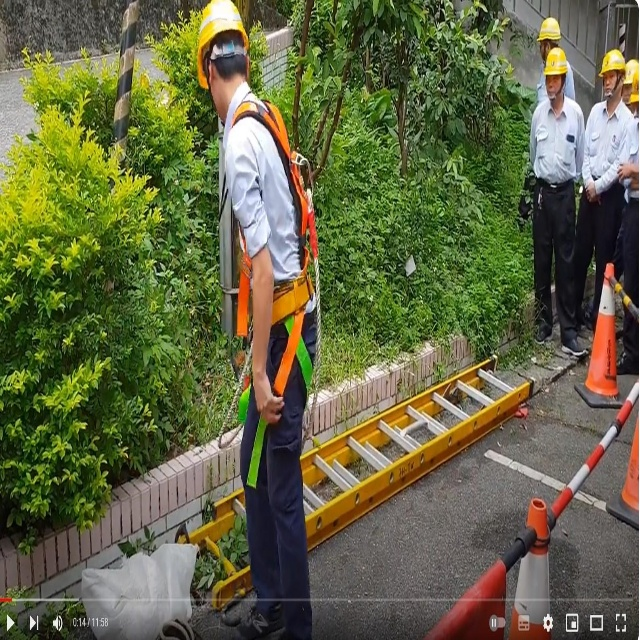Arnes_seguridad: (232, 95, 320, 498)
